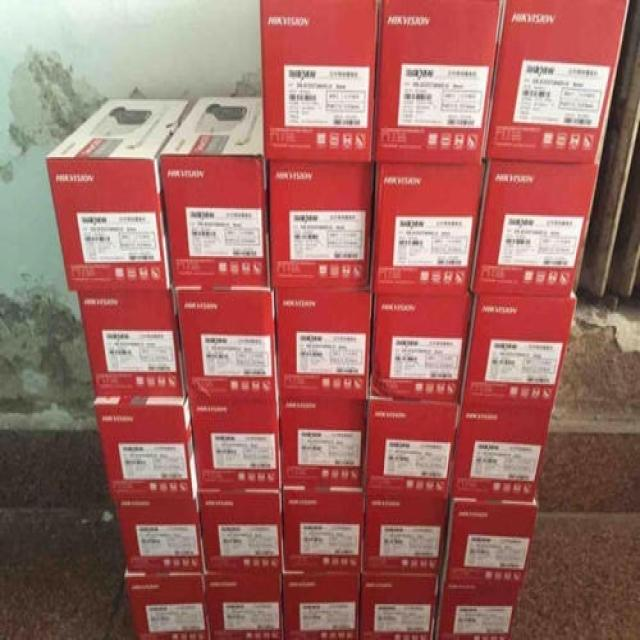box: (47, 97, 189, 294), (485, 3, 627, 167), (371, 5, 502, 164), (160, 96, 269, 287), (260, 0, 378, 162), (470, 164, 600, 300), (371, 162, 485, 295), (458, 288, 576, 411), (269, 159, 374, 285), (77, 282, 187, 398), (271, 285, 371, 401), (93, 393, 198, 503), (173, 285, 276, 396), (369, 292, 472, 401), (451, 403, 553, 502), (364, 401, 458, 498), (187, 393, 280, 490), (443, 497, 538, 585), (276, 396, 366, 488), (116, 492, 206, 573), (200, 490, 283, 573), (362, 493, 447, 573), (282, 488, 364, 570), (123, 563, 210, 640), (282, 570, 358, 640), (204, 573, 283, 640), (361, 570, 436, 640), (435, 584, 522, 640)
